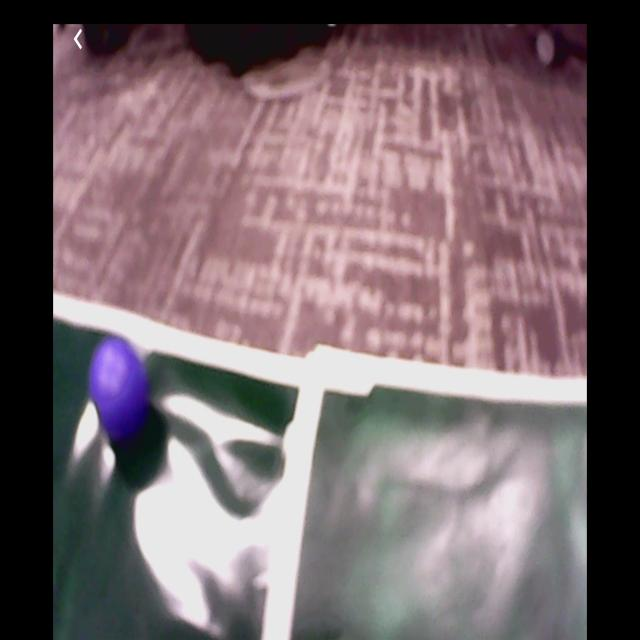ball: (88, 336, 143, 422)
